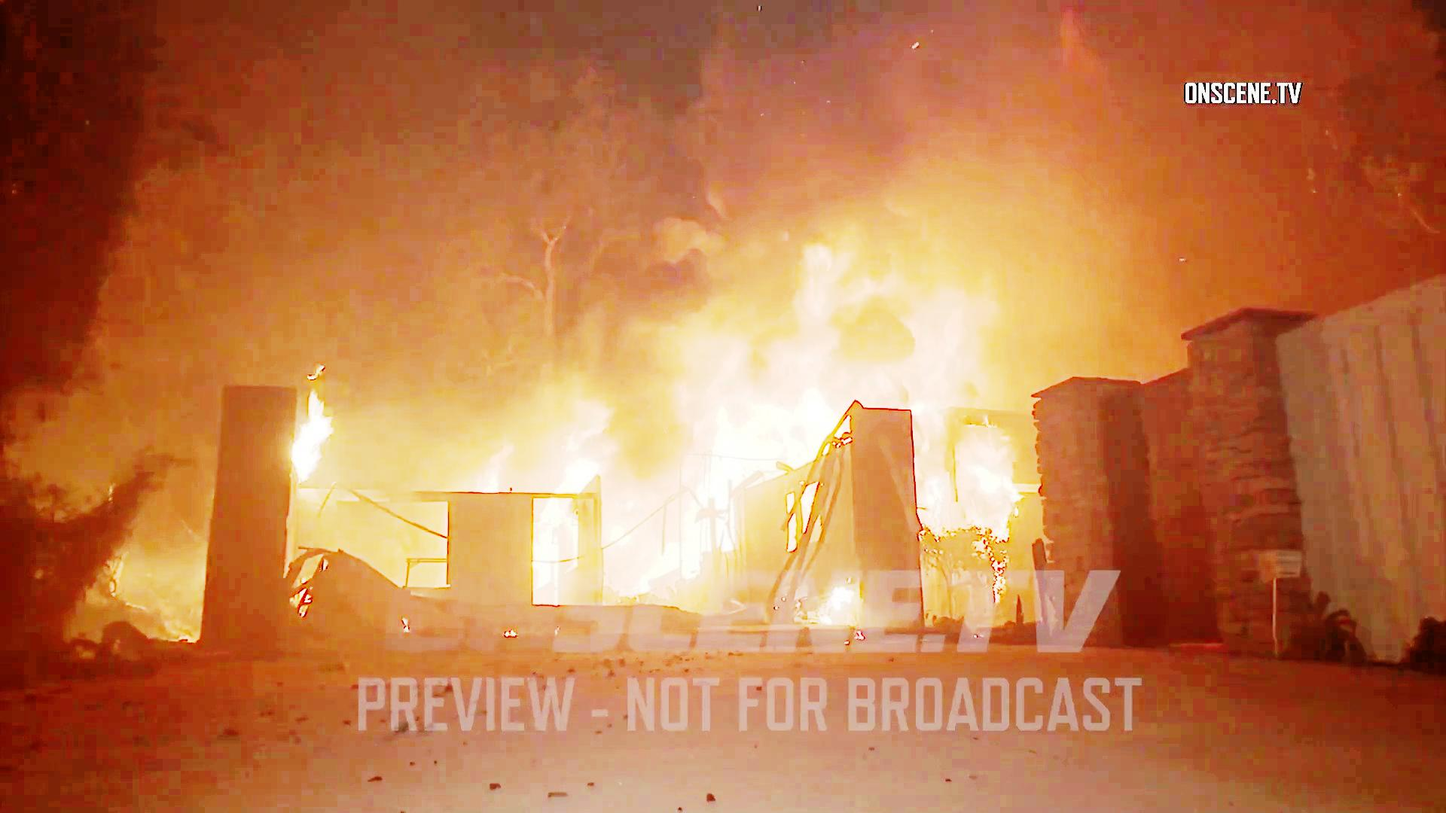fire: (509, 409, 659, 575), (901, 329, 1006, 527), (689, 360, 832, 487)
